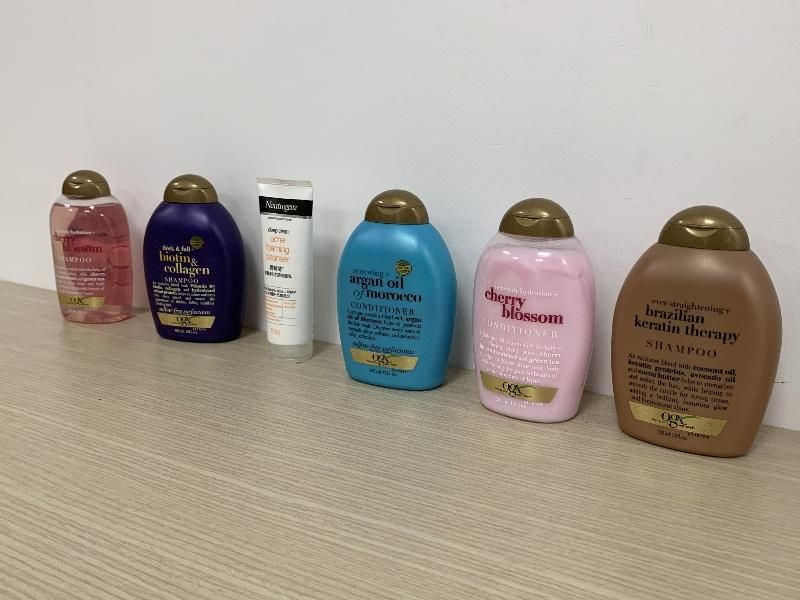AcneFoamingCleanser: (256, 177, 313, 363)
ArganOilOfMorocco_Conditioner: (336, 189, 457, 391)
BiotinCollagen_Shampoo: (143, 174, 245, 343)
BrazilianKeratinTherapy_Shampoo: (611, 205, 783, 459)
CherryBlossom_Conditioner: (472, 198, 596, 423)
CherryBlossom_Shampoo: (50, 170, 133, 324)
